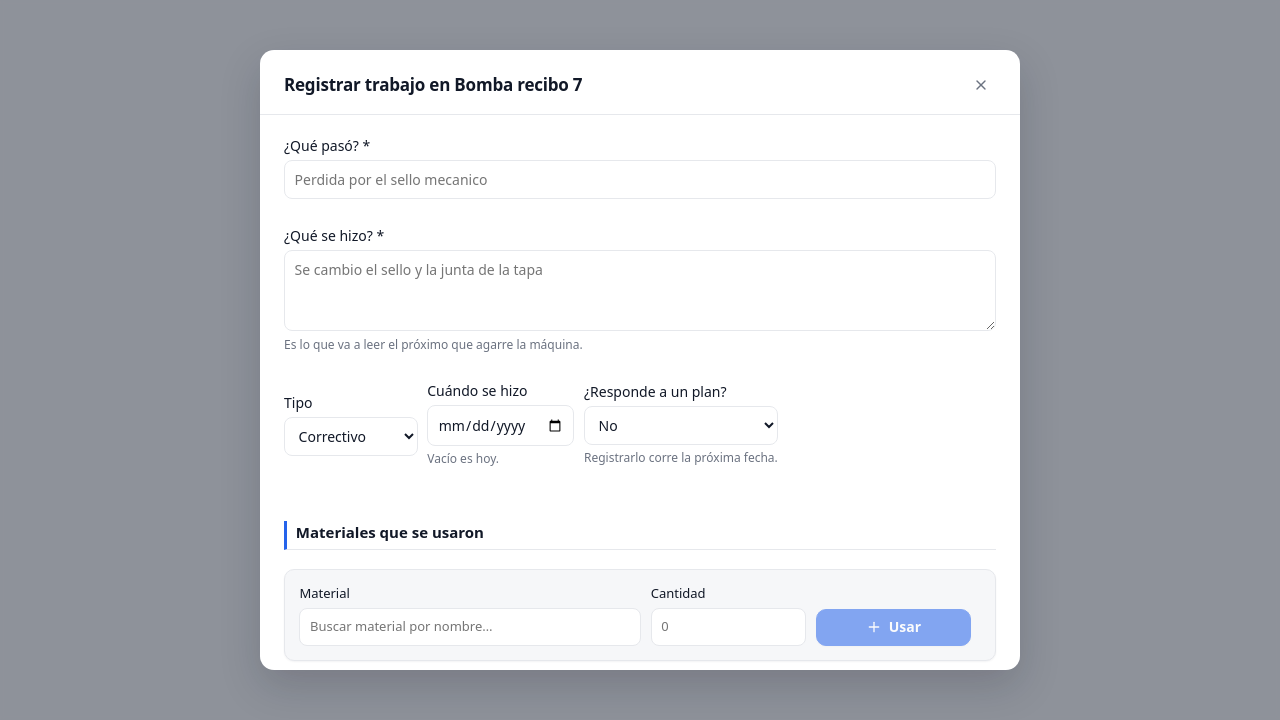
Test case: registrar un trabajo desde la ficha de una maquina › REGRESION: sin contar que se hizo no se puede registrar
Step 1. Click the field labelled "¿Qué pasó? *" → (640, 180), box top-left (284, 160), bottom-right (996, 199)
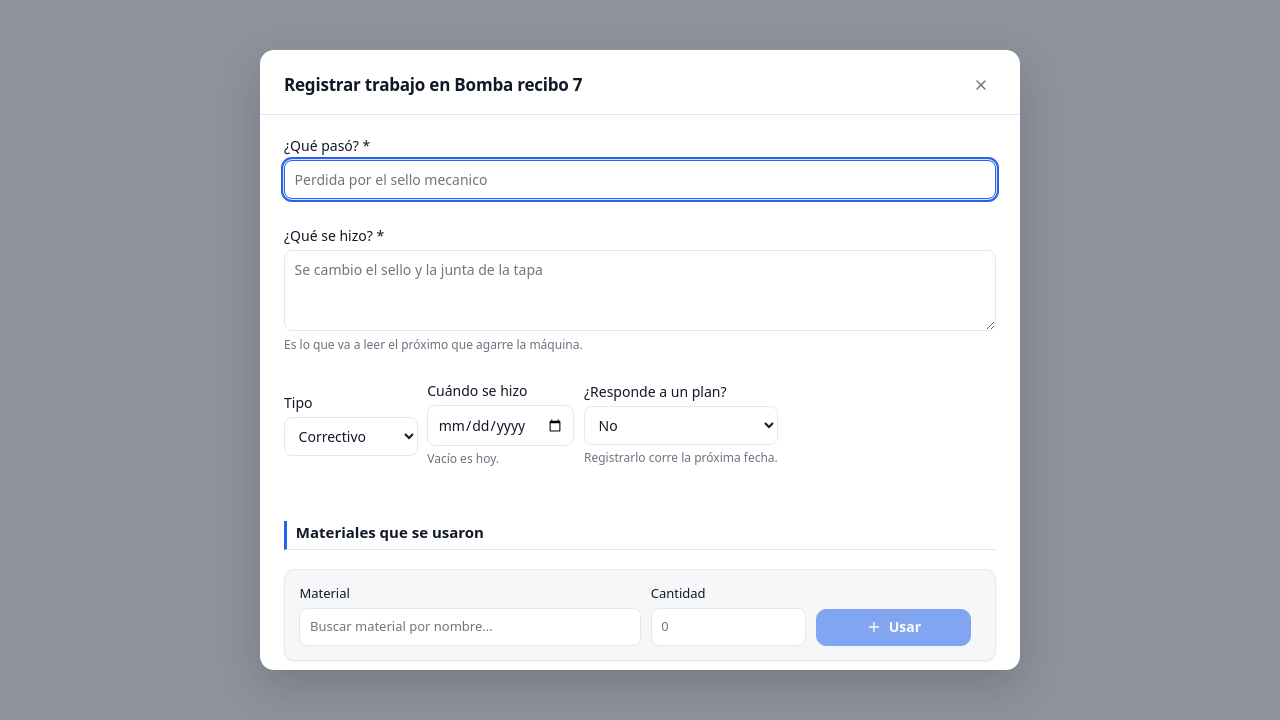
Step 2. Type keys "Algo se rompio"
(page scrolled)
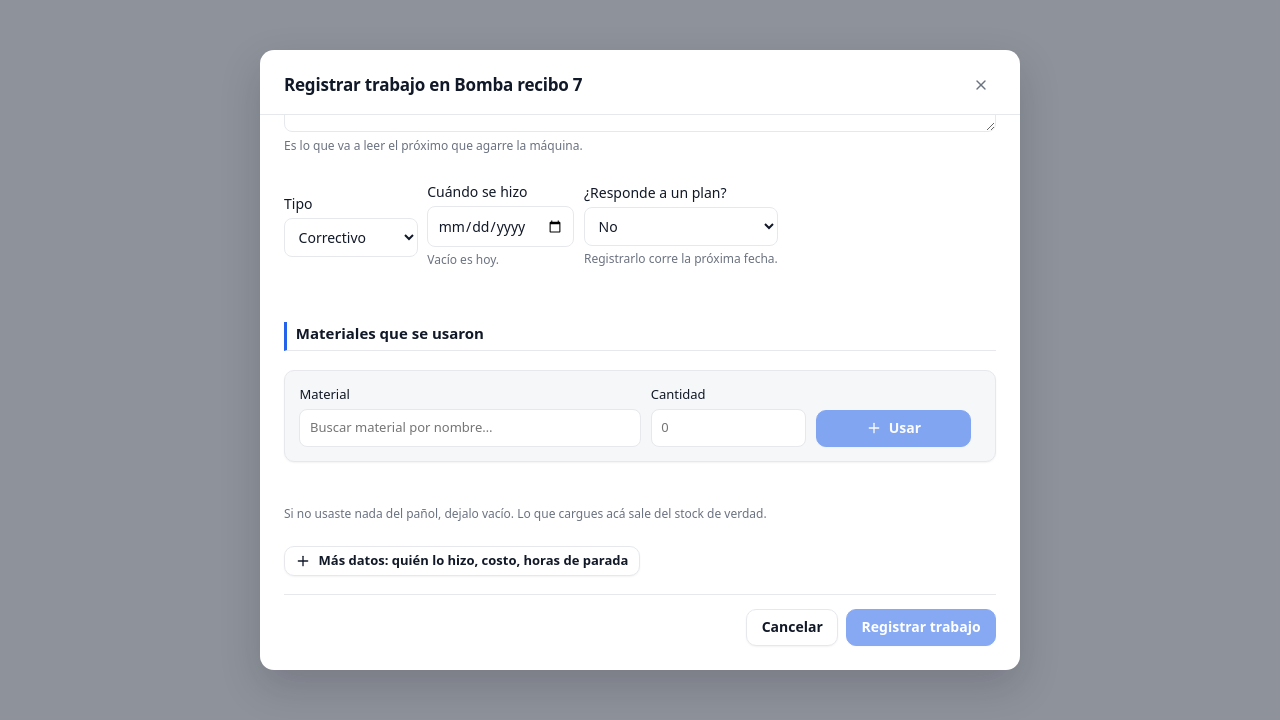
Result: the button "Registrar trabajo" is disabled at top-left (846, 609), bottom-right (996, 646)
